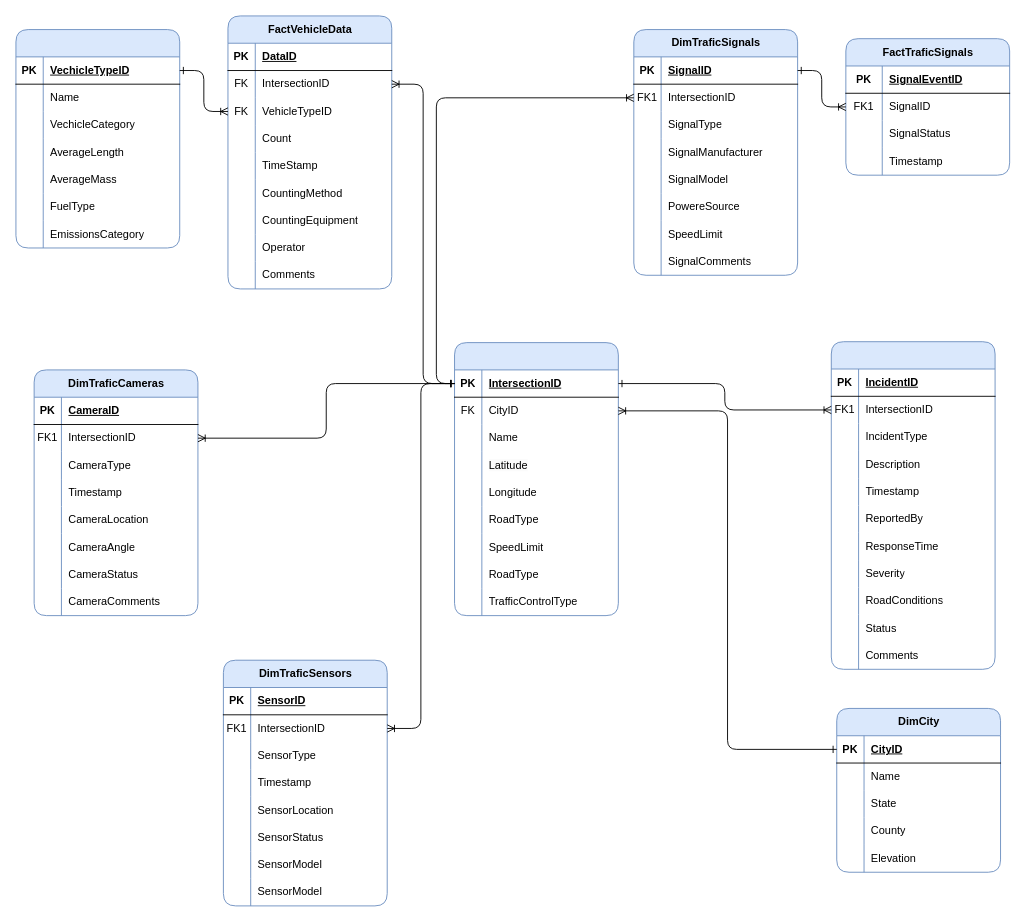
This 1026x922 diagram has some shape labels left out. The shapes that lost their labels are listed below. From the top down, each one's box as (x1, y1, x2, y2) in pixels, then its label:
(15, 29, 180, 248): DimVechicleType
(454, 342, 618, 616): DimIntersection
(830, 341, 995, 669): FactTrafficIncidents
